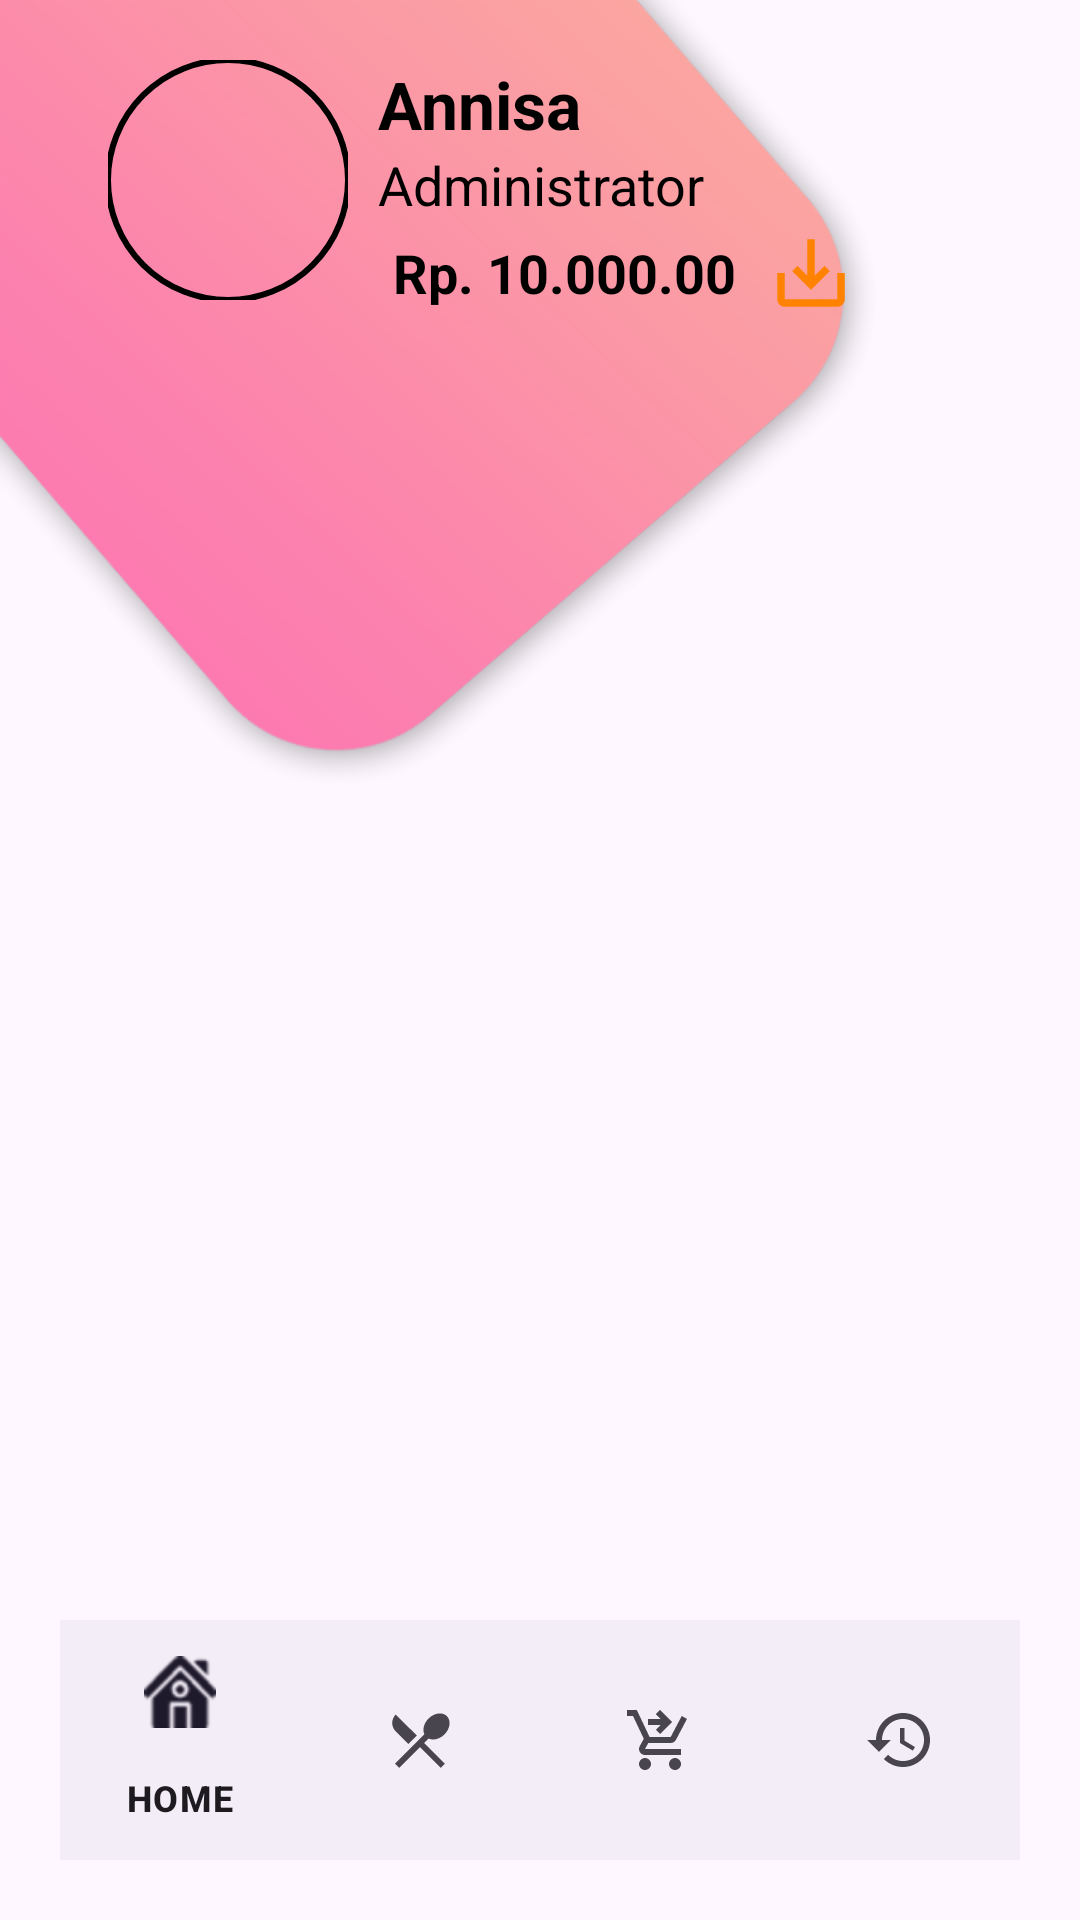

Screen size 1080x1920. Icon name, then its box in pixels as [left=x1, top=y1, right=x2, bottom=y2]:
save: [left=777, top=228, right=856, bottom=318]
